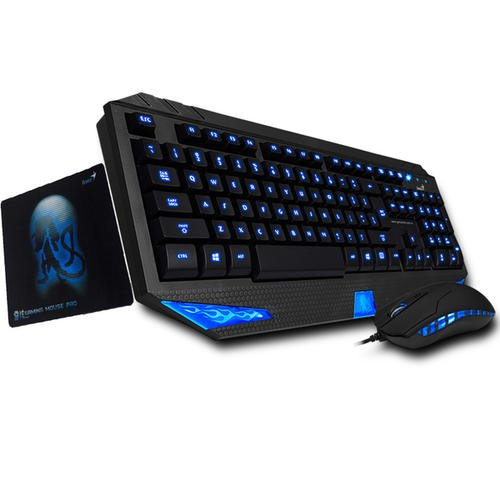keyboard: (95, 90, 470, 345)
mouse: (373, 281, 497, 351)
